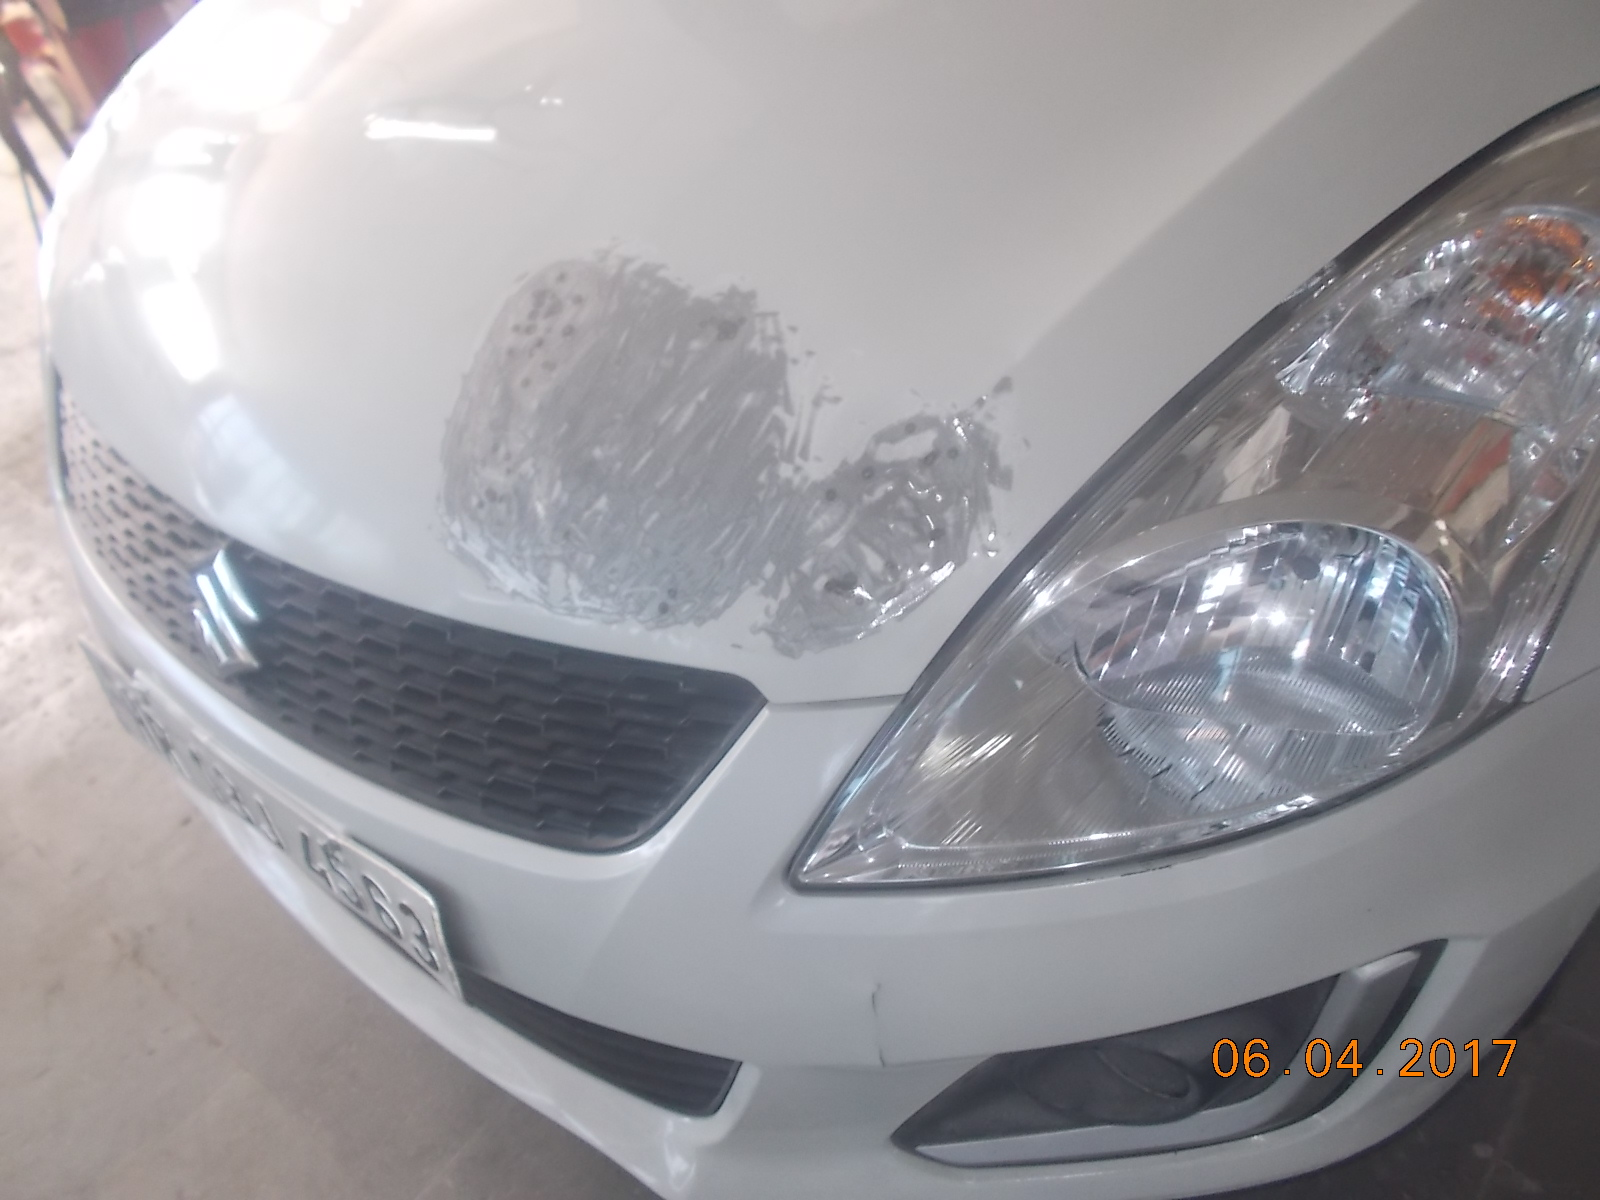Dent: (440, 257, 951, 626)
